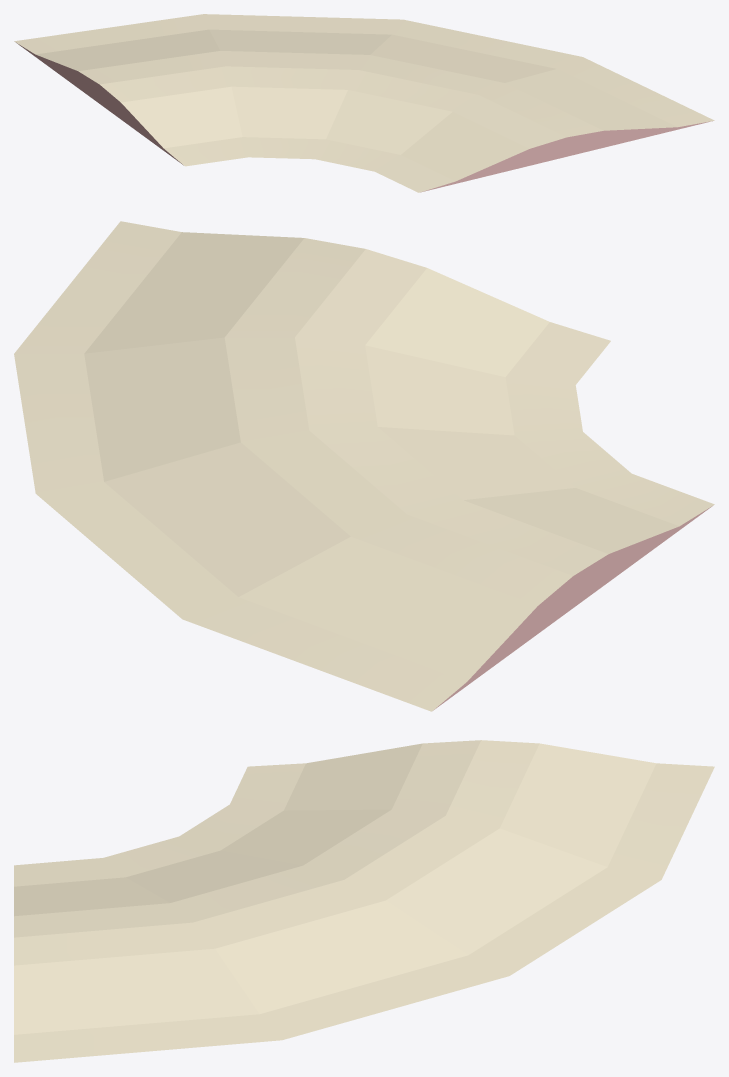
Rendered from Terrain_Sand_Incline_Curve_Both_12x12.glb.
3 renders of one model, top to bottom at view 1: azimuth 30°, elevation 25°; view 2: azimuth 150°, elevation 25°; view 3: azimuth 270°, elevation 25°, orthographic. The views are drawn at different scales.
Visible parts, largest first — view 1: Terrain_Sand_Incline_Curve_Both_12x12; view 2: Terrain_Sand_Incline_Curve_Both_12x12; view 3: Terrain_Sand_Incline_Curve_Both_12x12.
Boxes of the visible parts, bbox=[...] form: Terrain_Sand_Incline_Curve_Both_12x12: bbox=[14, 14, 714, 192]; Terrain_Sand_Incline_Curve_Both_12x12: bbox=[14, 221, 714, 711]; Terrain_Sand_Incline_Curve_Both_12x12: bbox=[14, 740, 714, 1062].
Size of the model in its own units: 1200 by 50 by 1200.
